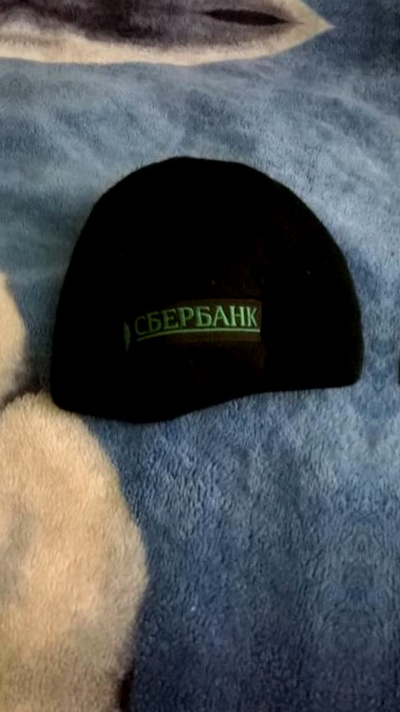Hat: (0, 118, 400, 484), (369, 157, 400, 524)
